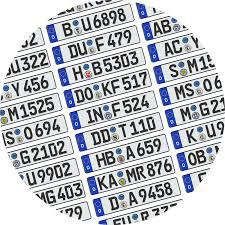0: (53, 163, 63, 179), (48, 142, 58, 157), (64, 184, 74, 199), (121, 53, 130, 68)
1: (130, 73, 141, 88), (19, 102, 29, 118), (138, 118, 148, 134), (129, 120, 139, 136), (198, 55, 208, 70), (219, 97, 225, 112)
2: (61, 161, 73, 177), (38, 51, 49, 67), (210, 99, 221, 113), (57, 140, 67, 155), (132, 96, 141, 112), (31, 147, 41, 161), (29, 54, 39, 68), (37, 99, 46, 114)
3: (72, 182, 83, 197), (129, 51, 139, 65), (21, 56, 30, 71), (112, 56, 121, 71)
4: (140, 94, 149, 110), (57, 186, 66, 201), (107, 33, 116, 48), (23, 78, 32, 93), (148, 186, 156, 201)
5: (122, 98, 132, 115), (45, 96, 55, 112), (27, 101, 37, 117), (144, 139, 154, 155), (104, 58, 113, 74), (30, 77, 40, 91), (122, 76, 131, 90), (207, 54, 216, 67), (156, 184, 164, 198)
6: (136, 142, 146, 157), (163, 158, 173, 173), (214, 75, 223, 91), (34, 123, 44, 137), (40, 75, 49, 89), (138, 142, 146, 157), (94, 14, 102, 29)
7: (114, 32, 123, 48), (64, 207, 74, 221), (138, 71, 148, 85), (154, 161, 162, 175)
8: (146, 162, 156, 177), (101, 12, 110, 28), (117, 7, 126, 22), (164, 181, 172, 196)
9: (37, 168, 47, 185), (74, 205, 83, 222), (152, 138, 162, 153), (139, 188, 148, 204), (216, 121, 224, 137), (42, 121, 51, 135), (124, 29, 133, 43), (109, 9, 117, 24), (46, 167, 54, 182)
A: (126, 144, 136, 160), (129, 190, 139, 206), (108, 173, 118, 188), (154, 21, 163, 37), (164, 41, 173, 56)
B: (161, 17, 171, 34), (104, 151, 116, 165), (62, 22, 73, 37), (91, 60, 102, 75), (196, 150, 206, 165)
C: (172, 39, 183, 54)
D: (108, 196, 120, 211), (74, 89, 86, 103), (68, 43, 78, 59), (100, 129, 111, 143), (90, 131, 101, 145)
F: (94, 36, 105, 51), (110, 79, 121, 94), (112, 99, 121, 117)
G: (20, 149, 31, 167), (198, 101, 210, 116), (45, 190, 56, 204)
H: (71, 65, 83, 83), (95, 153, 107, 168)
I: (85, 109, 95, 123)
K: (186, 128, 198, 144), (96, 175, 108, 190), (100, 81, 112, 96)
M: (179, 106, 192, 121), (7, 106, 19, 122), (186, 58, 198, 73), (35, 192, 47, 205), (174, 85, 185, 99)
N: (93, 107, 104, 121)
O: (202, 78, 213, 92), (83, 87, 94, 101), (23, 125, 33, 140), (146, 116, 156, 130), (187, 152, 197, 166)
R: (135, 165, 145, 180)
S: (167, 63, 179, 78), (5, 131, 15, 145), (185, 83, 194, 98)
T: (117, 123, 128, 138)
U: (81, 15, 92, 32), (205, 123, 217, 138), (25, 171, 37, 186), (77, 42, 88, 56), (10, 59, 21, 73)
Y: (189, 35, 201, 48), (11, 82, 21, 97)
